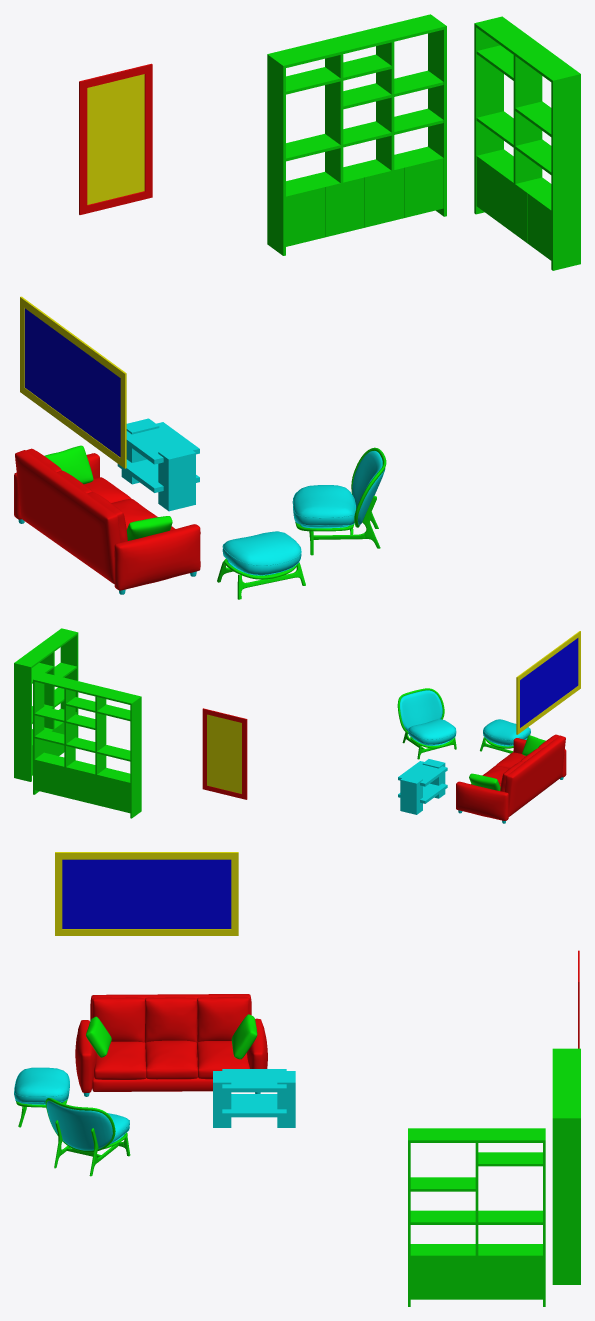
File: objetos-piso1-sala.fbx
3 views of the same model, one above another, from view 1: azimuth 30°, elevation 25°; view 2: azimuth 150°, elevation 25°; view 3: azimuth 270°, elevation 25° (orthographic). The views are drawn at different scales.
Parts seen in each view (by area): view 1: repisa1, repisa2, sofa, cuadro_largo, cuadro_2, mesa_centro, sillon2, polySurface105; view 2: repisa1, sofa, repisa2, cuadro_largo, cuadro_2, sillon2, mesa_centro, polySurface105; view 3: sofa, cuadro_largo, repisa2, repisa1, mesa_centro, sillon2, polySurface105.
Part boxes in pixels (<box>): repisa1: <box>267,14,446,255</box>; repisa2: <box>474,16,580,270</box>; sofa: <box>14,445,200,594</box>; cuadro_largo: <box>20,296,126,468</box>; cuadro_2: <box>79,63,152,214</box>; mesa_centro: <box>117,418,199,511</box>; sillon2: <box>292,447,386,555</box>; polySurface105: <box>217,531,305,599</box>; repisa1: <box>33,672,141,818</box>; sofa: <box>456,734,566,823</box>; repisa2: <box>14,628,78,781</box>; cuadro_largo: <box>516,631,580,734</box>; cuadro_2: <box>202,708,247,799</box>; sillon2: <box>397,688,456,759</box>; mesa_centro: <box>398,759,447,814</box>; polySurface105: <box>480,719,530,753</box>; sofa: <box>75,994,267,1096</box>; cuadro_largo: <box>55,852,238,935</box>; repisa2: <box>408,1128,545,1306</box>; repisa1: <box>552,1048,580,1284</box>; mesa_centro: <box>213,1069,295,1127</box>; sillon2: <box>45,1098,130,1176</box>; polySurface105: <box>14,1067,69,1127</box>.
Size of the model in its own units: 724 by 260 by 617.
